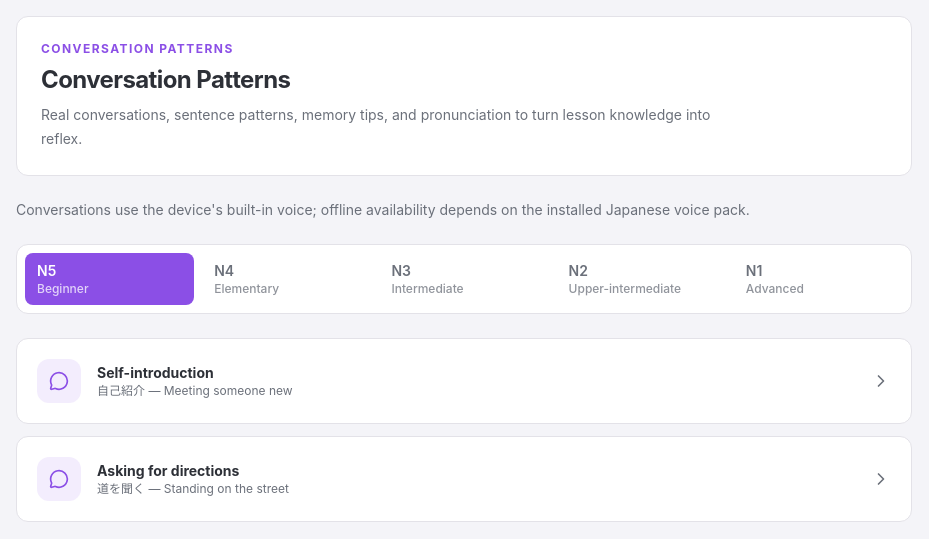
Conversations Page › level selector › switches to N4 conversations on click
Step 1. Click the radio button labelled "N4 Elementary" → (287, 279), box [202, 253, 371, 305]
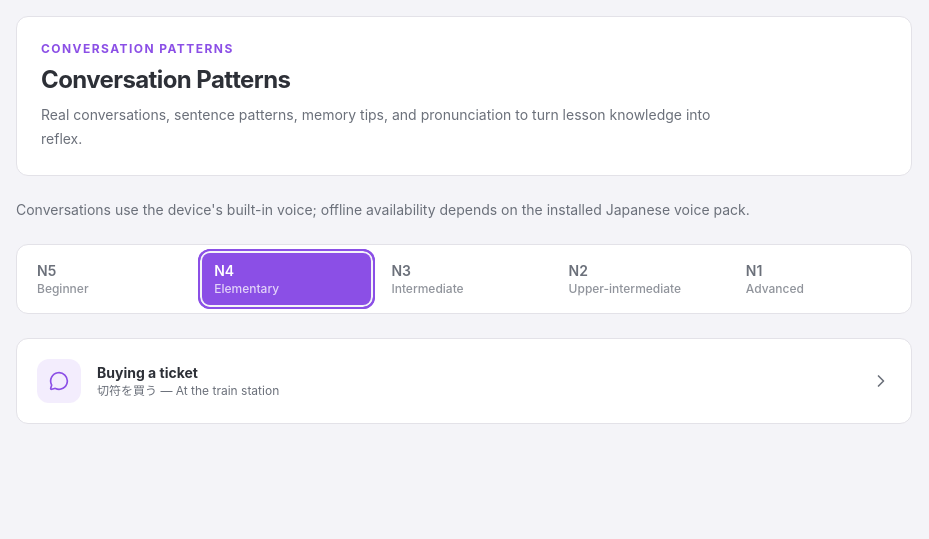
Check: the heading "Buying a ticket" is shown, box [97, 364, 198, 381]
Check: the button "Self-introduction" is gone
